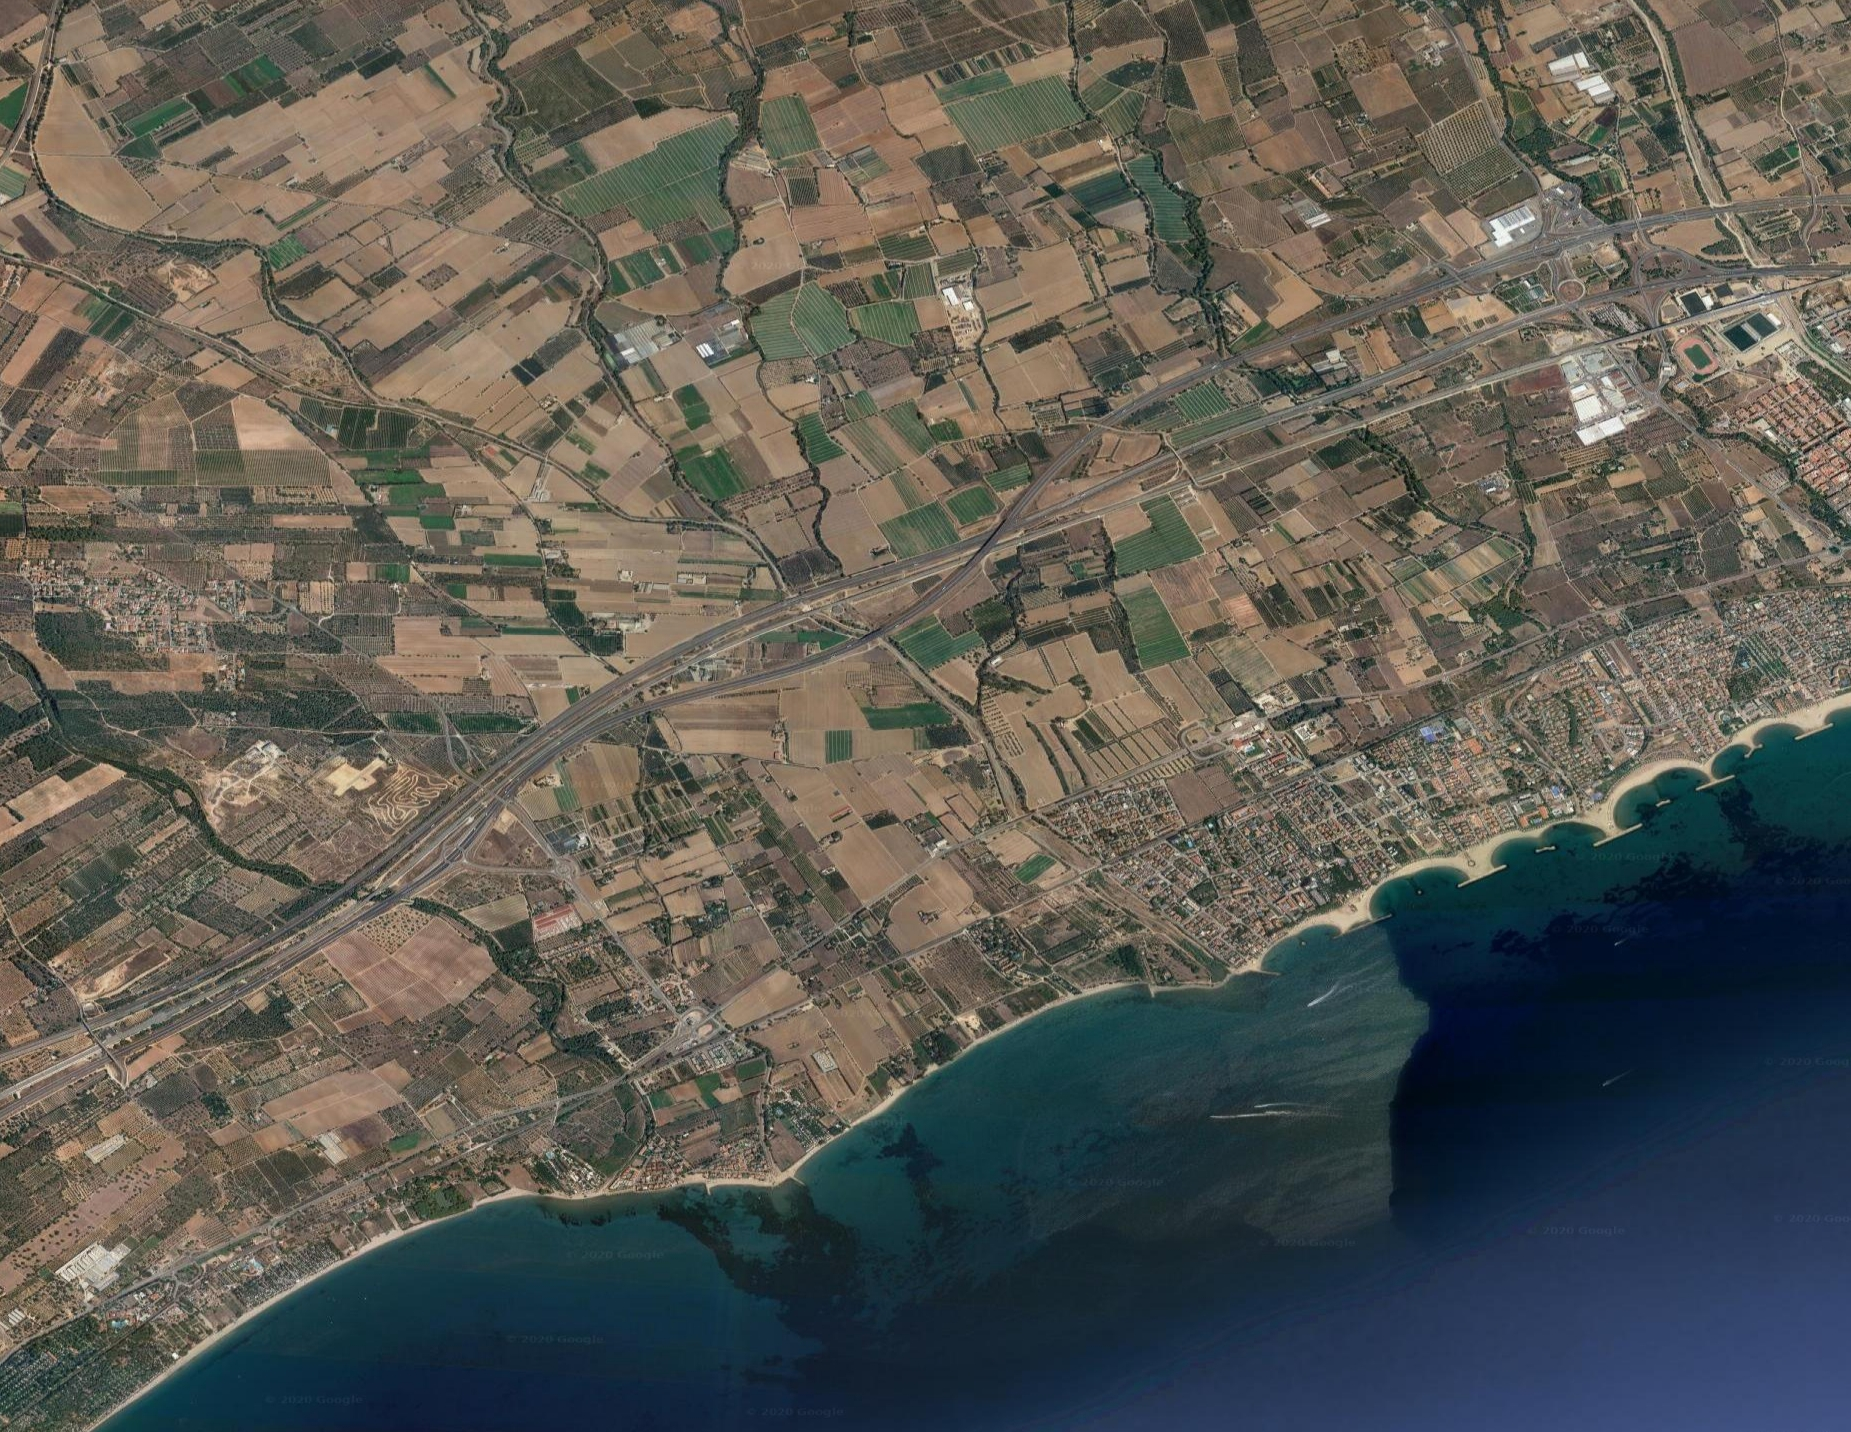motorway: (6, 735, 538, 1128), (518, 497, 1016, 766), (1028, 254, 1525, 523), (1520, 180, 1849, 325)
